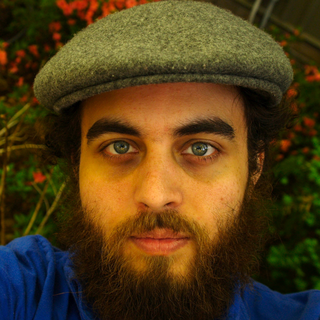eye: (179, 138, 227, 164), (98, 135, 143, 161)
